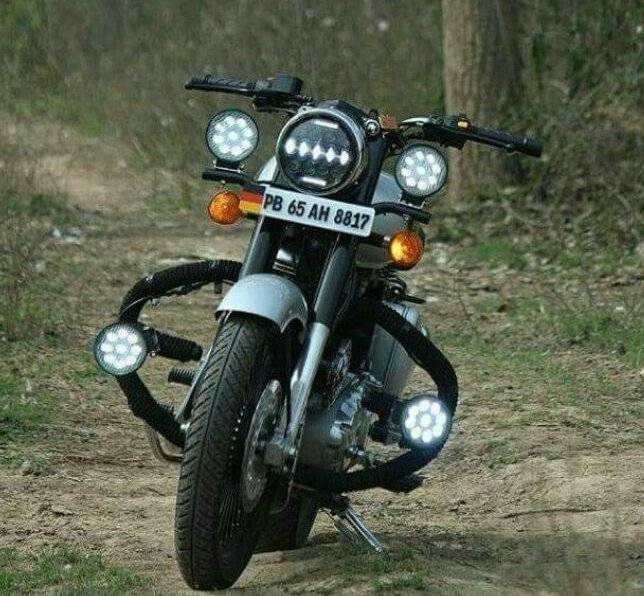numberplate: (239, 176, 378, 237)
